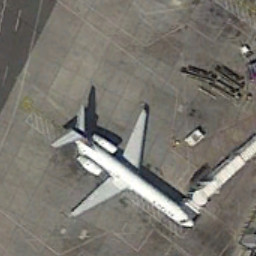Airplane: (47, 96, 201, 237)
